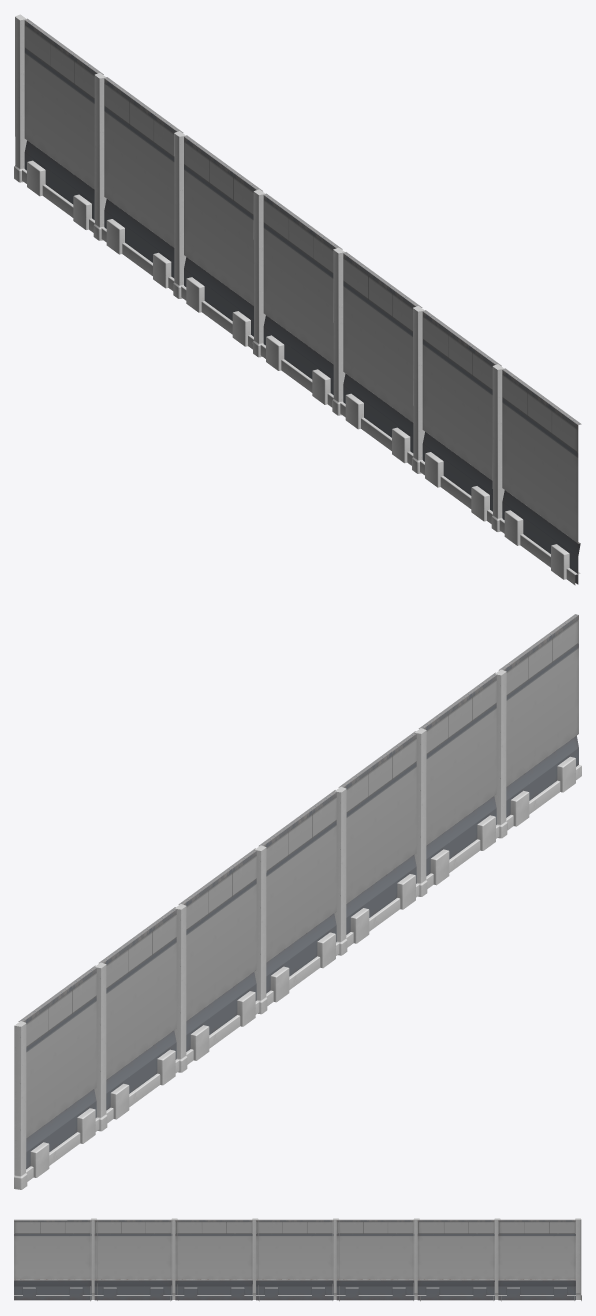
The model's file is Pfb_JALB_WallPart2_Line__21.fbx.
3 views of the same model, one above another, from view 1: azimuth 30°, elevation 25°; view 2: azimuth 150°, elevation 25°; view 3: azimuth 270°, elevation 25° (orthographic). The views are drawn at different scales.
Visible parts, largest first — view 1: MAT_JLABWall; view 2: MAT_JLABWall; view 3: MAT_JLABWall.
Boxes of the visible parts, x1=… form: MAT_JLABWall: x1=14, y1=14, x2=581, y2=585; MAT_JLABWall: x1=14, y1=614, x2=581, y2=1189; MAT_JLABWall: x1=14, y1=1218, x2=581, y2=1301.
Size of the model in its own units: 0.2514 by 4.04 by 25.34.
Materials: 1 (1 with a texture image).
